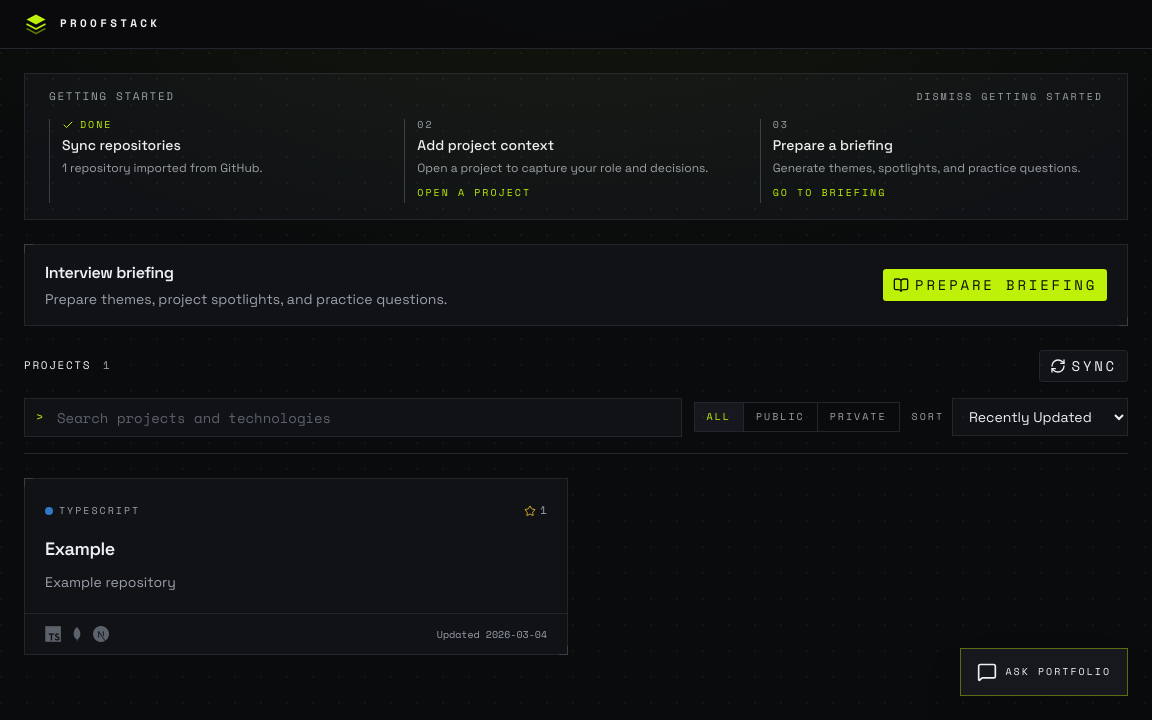
Test case: marks the context step done after a project card is opened and persists it
Click the link "Example". click: (80, 548)
box: [45,537,115,560]
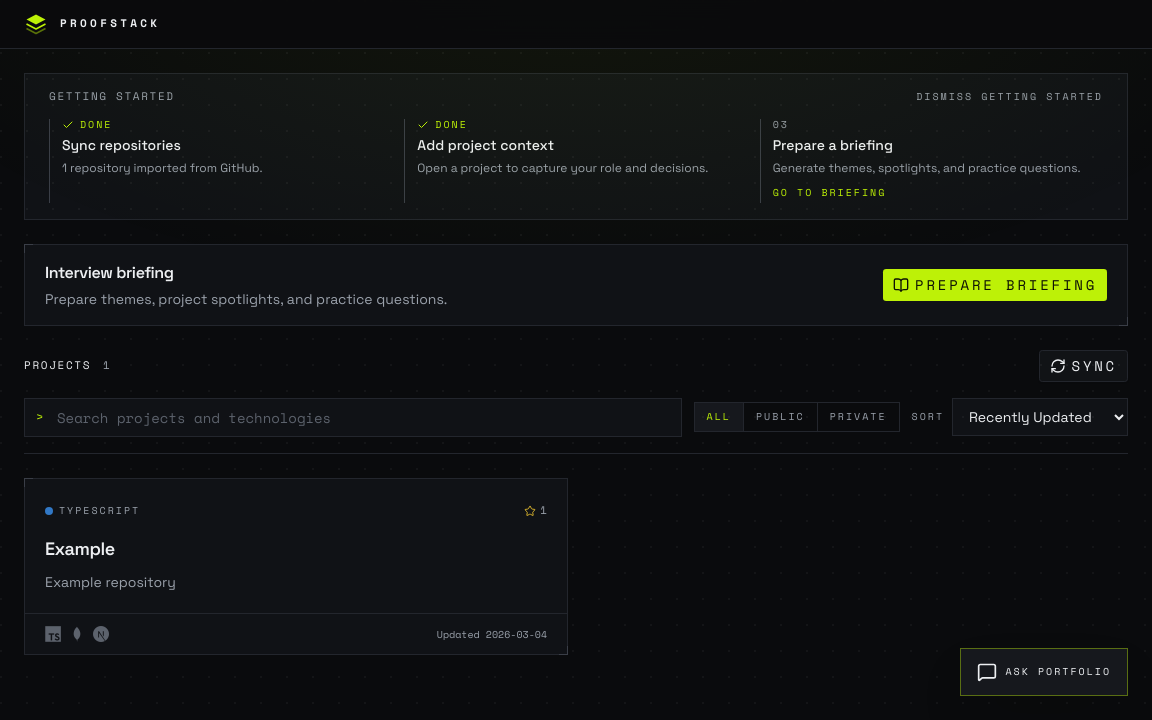
Check: the 2nd list item shows "Done", box [435,117,468,132]
